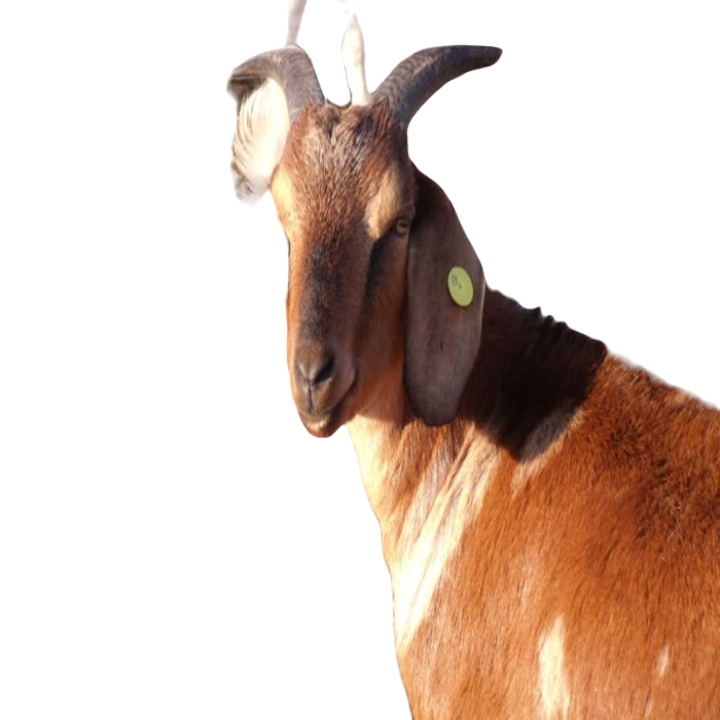Goat: (220, 0, 719, 720)
